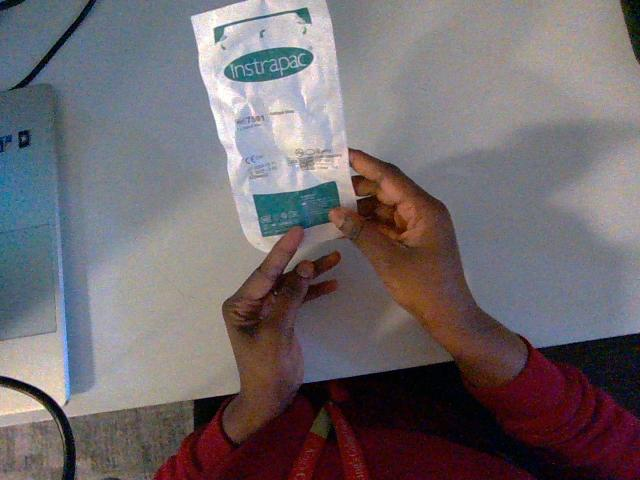gallipot: (192, 0, 355, 250)
